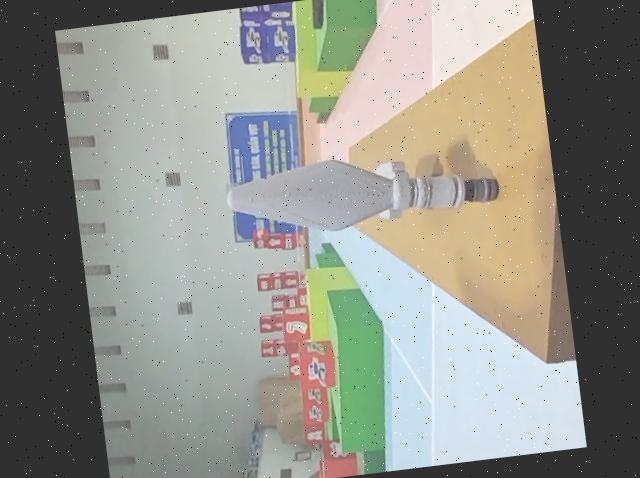Sph: (221, 136, 501, 241)
